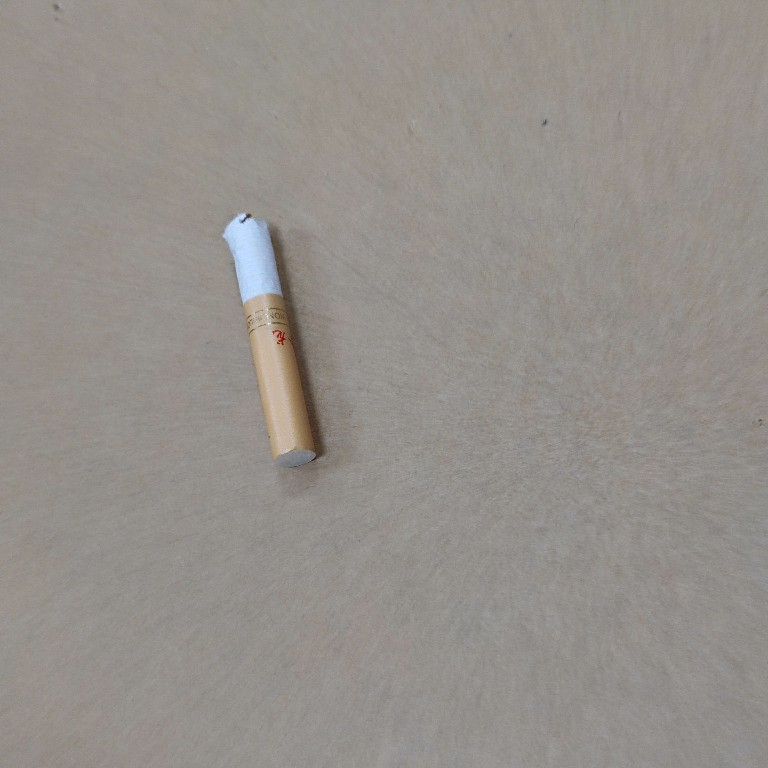cigarette: (217, 206, 321, 470)
